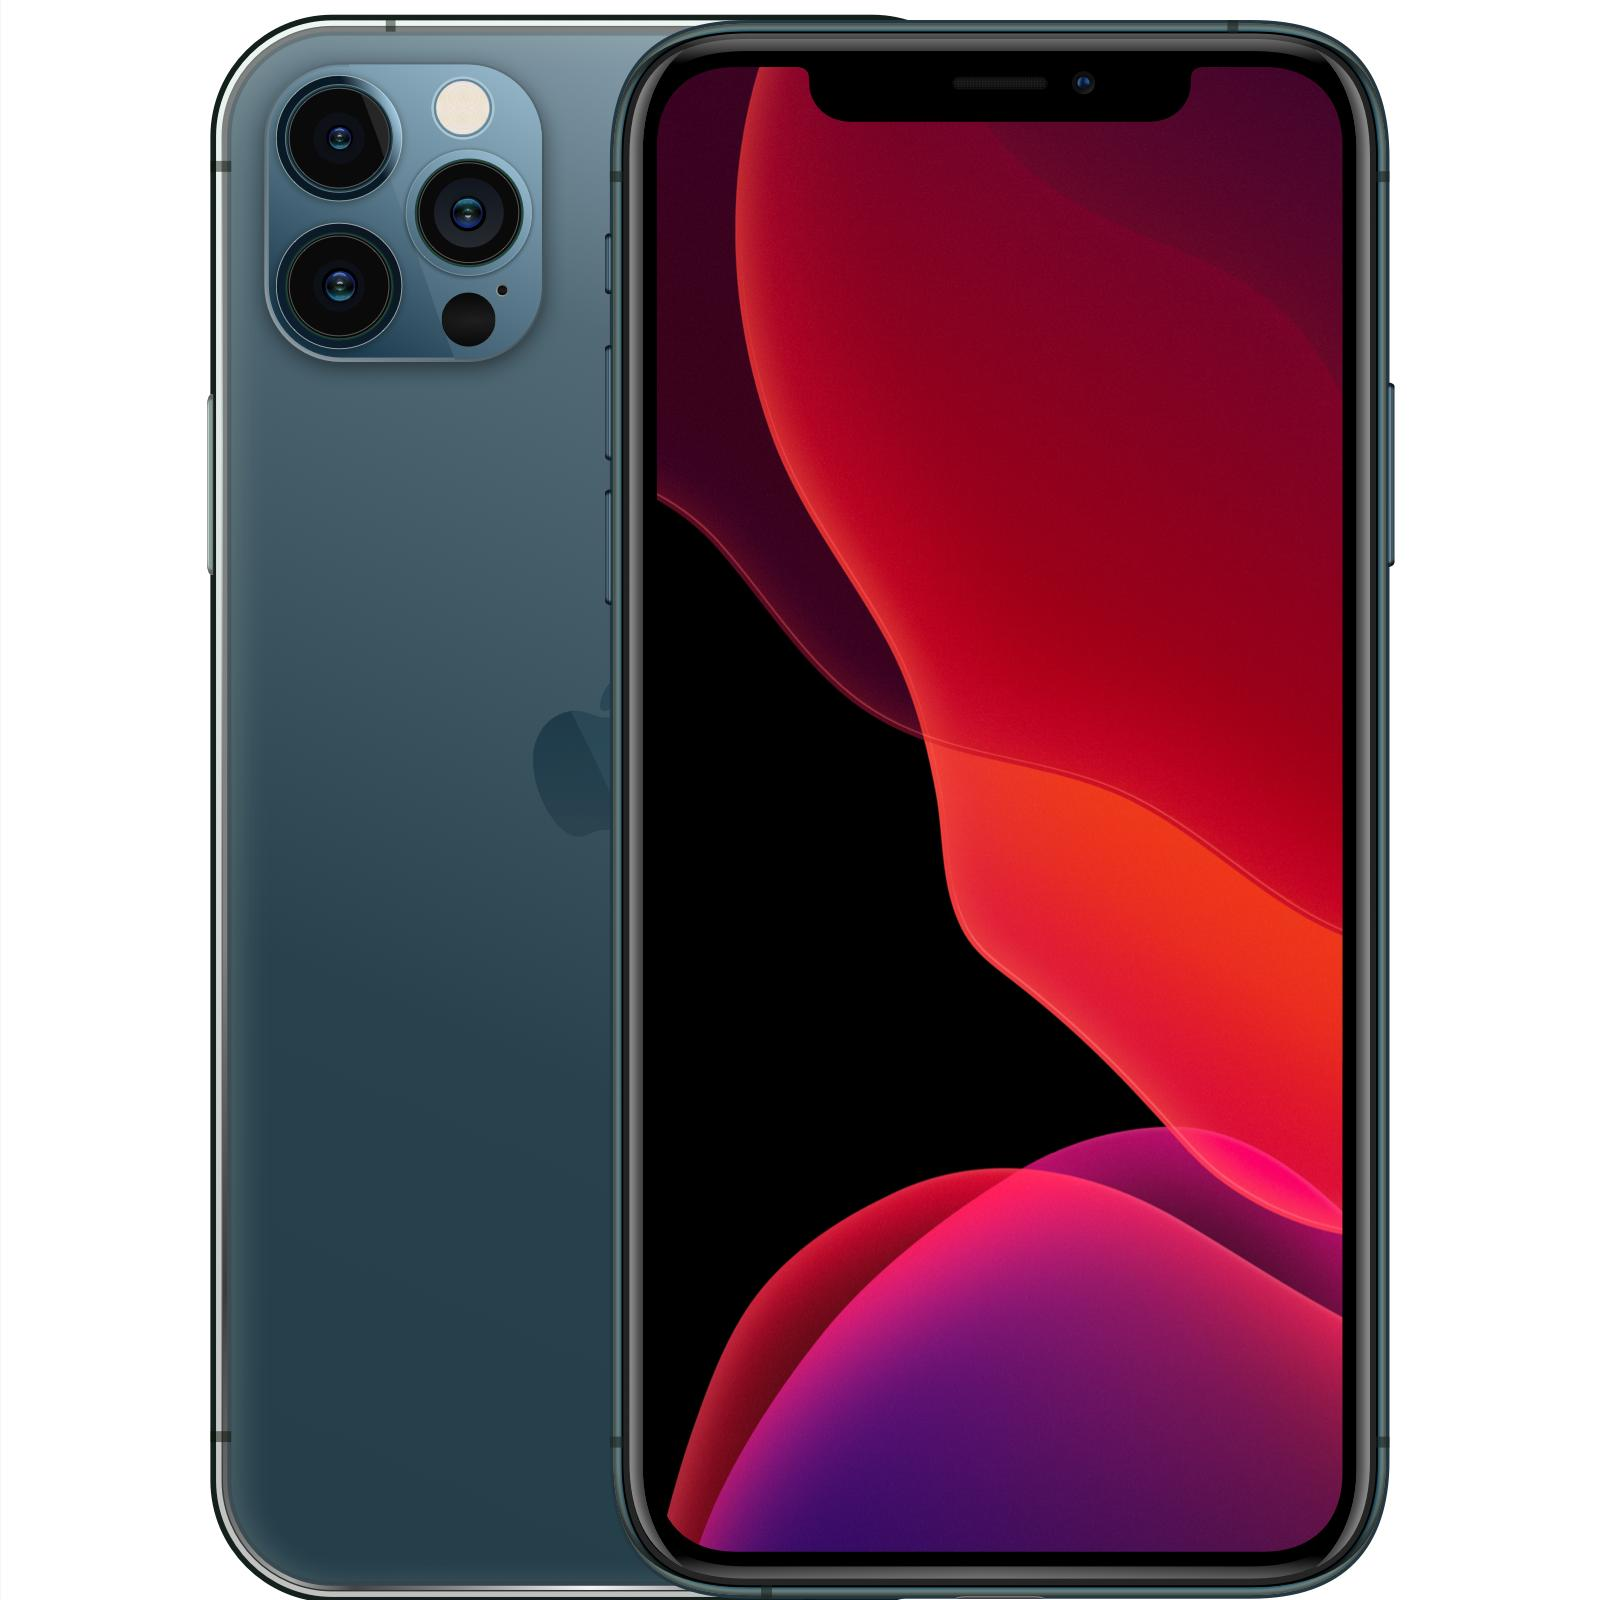-iphone12: (164, 7, 1601, 1600)
